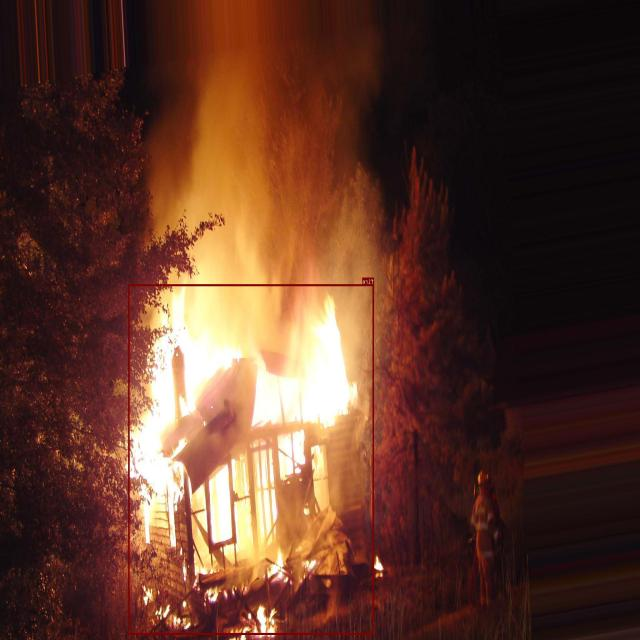fire: (129, 284, 374, 634)
